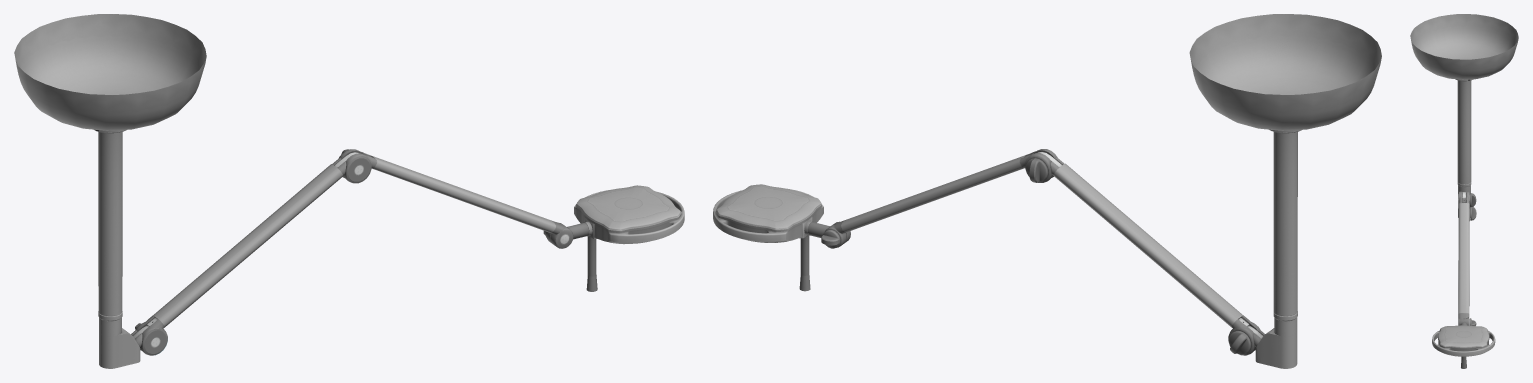
The model's file is lamp1.glb.
The picture shows the model from 3 angles, left to right: view 1: azimuth 30°, elevation 25°; view 2: azimuth 150°, elevation 25°; view 3: azimuth 270°, elevation 25°; orthographic projection. The views are drawn at different scales.
Visible parts, largest first — view 1: lamp_LP; view 2: lamp_LP; view 3: lamp_LP.
Boxes of the visible parts, x1,y1,x2,y2 form: lamp_LP: [14, 14, 684, 368]; lamp_LP: [713, 14, 1381, 368]; lamp_LP: [1410, 14, 1518, 368].
Bounding box in the file's own units: 1.36 × 0.7061 × 0.349.
Materials: 1 (1 with a texture image).
